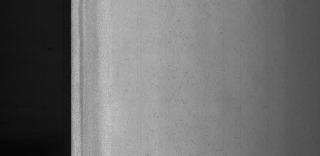silk spot: (154, 10, 220, 114)
